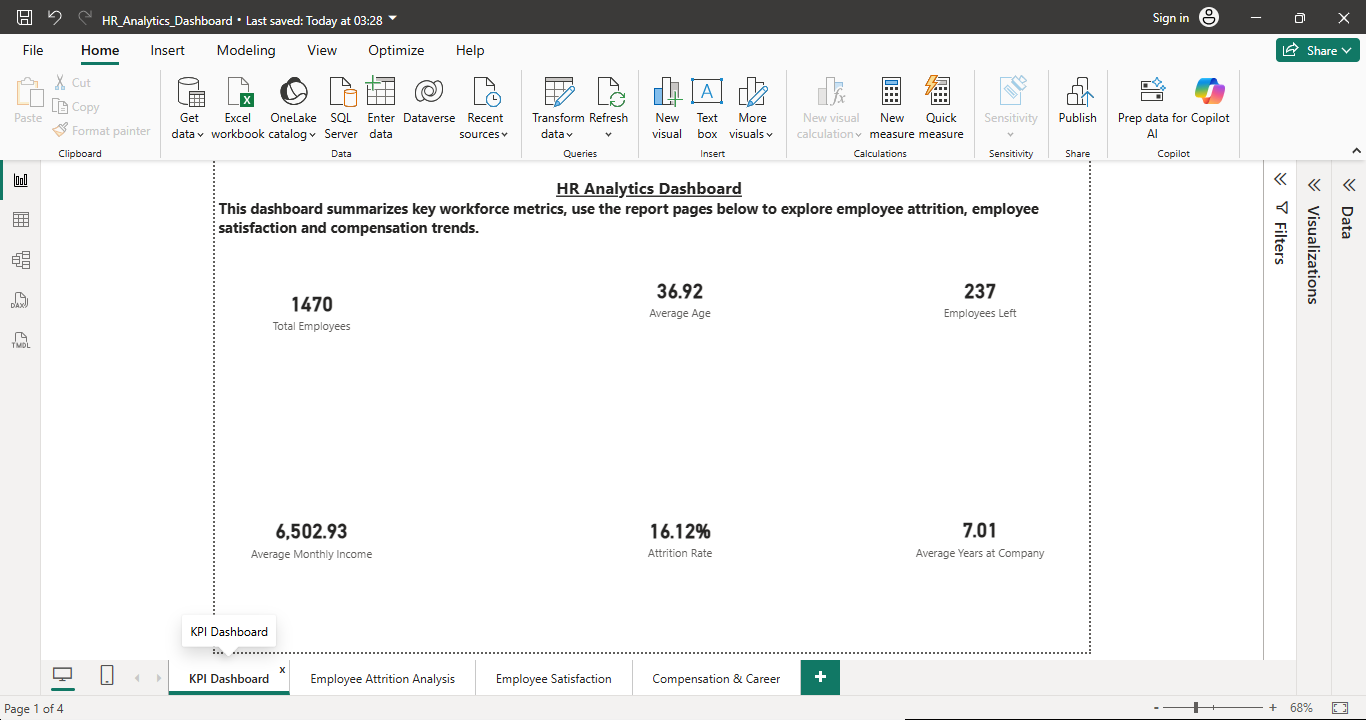

What the dashboard file says about the page in this screenshot:
{"tool":"powerbi","page":{"name":"KPI Dashboard","canvas":[1280,720],"ordinal":0},"visuals":[{"type":"card","fields":{"Values":["WA_Fn-UseC_-HR-Employee-Attriti.Total Employees"]},"box":[0,77.6,282.4,282.4],"z":0},{"type":"card","fields":{"Values":["WA_Fn-UseC_-HR-Employee-Attriti.Average Age"]},"box":[540,58.5,281,282.4],"z":1000},{"type":"card","fields":{"Values":["WA_Fn-UseC_-HR-Employee-Attriti.Average Monthly Income"]},"box":[0,411.2,282.4,281],"z":2000},{"type":"card","fields":{"Values":["WA_Fn-UseC_-HR-Employee-Attriti.Attrition Rate"]},"box":[540,409.8,281,282.4],"z":3000},{"type":"card","fields":{"Values":["WA_Fn-UseC_-HR-Employee-Attriti.Employees Left"]},"box":[979,58.5,281,282.4],"z":4000},{"type":"card","fields":{"Values":["WA_Fn-UseC_-HR-Employee-Attriti.Average Years at Company"]},"box":[979,409.8,281,281],"z":5000},{"type":"textbox","box":[0,19,1270.2,108.3],"z":5001}]}

Visuals, with their boxes on the page's 1280x720 design canvas (x1, y1, x2, y2). These are canvas units, not pixel positions in the 1366x720 screenshot, which may show the page scaled, cropped or inside an application window:
card - WA_Fn-UseC_-HR-Employee-Attriti.Total Employees: (left=0, top=78, right=282, bottom=360)
card - WA_Fn-UseC_-HR-Employee-Attriti.Average Age: (left=540, top=58, right=821, bottom=341)
card - WA_Fn-UseC_-HR-Employee-Attriti.Average Monthly Income: (left=0, top=411, right=282, bottom=692)
card - WA_Fn-UseC_-HR-Employee-Attriti.Attrition Rate: (left=540, top=410, right=821, bottom=692)
card - WA_Fn-UseC_-HR-Employee-Attriti.Employees Left: (left=979, top=58, right=1260, bottom=341)
card - WA_Fn-UseC_-HR-Employee-Attriti.Average Years at Company: (left=979, top=410, right=1260, bottom=691)
textbox: (left=0, top=19, right=1270, bottom=127)
